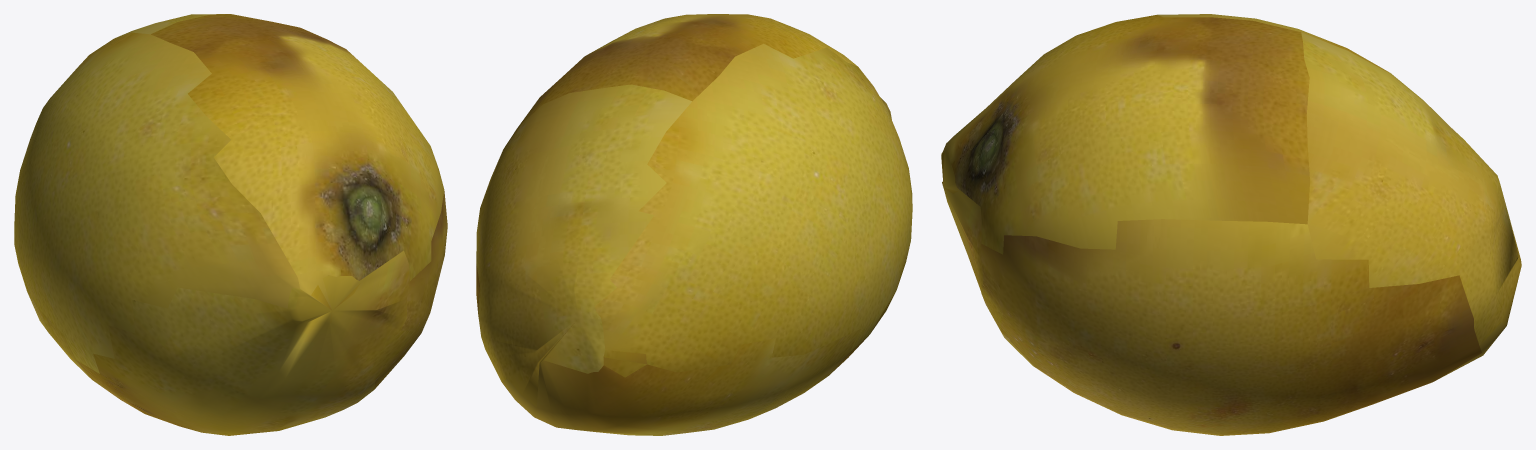
The picture shows the model from 3 angles, left to right: view 1: azimuth 30°, elevation 25°; view 2: azimuth 150°, elevation 25°; view 3: azimuth 270°, elevation 25°; orthographic projection. The views are drawn at different scales.
Bounding box in the file's own units: 0.7245 × 0.7205 × 1.
